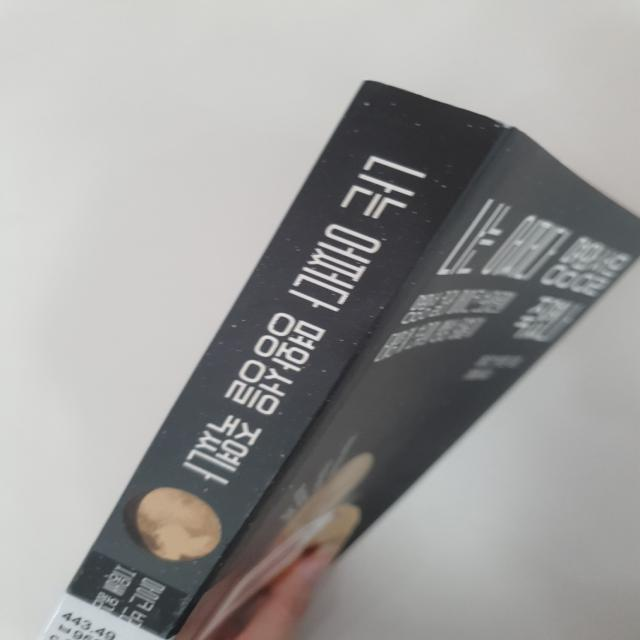Wornout: (490, 113, 530, 146)
